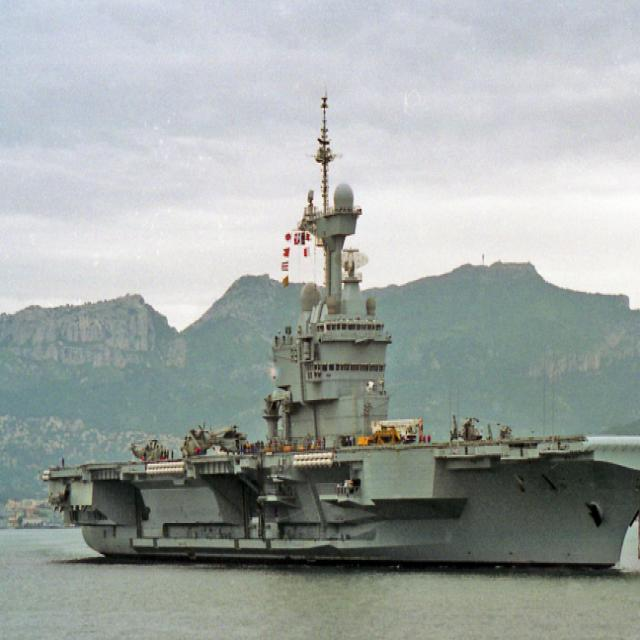Portanaves: (34, 84, 640, 586)
